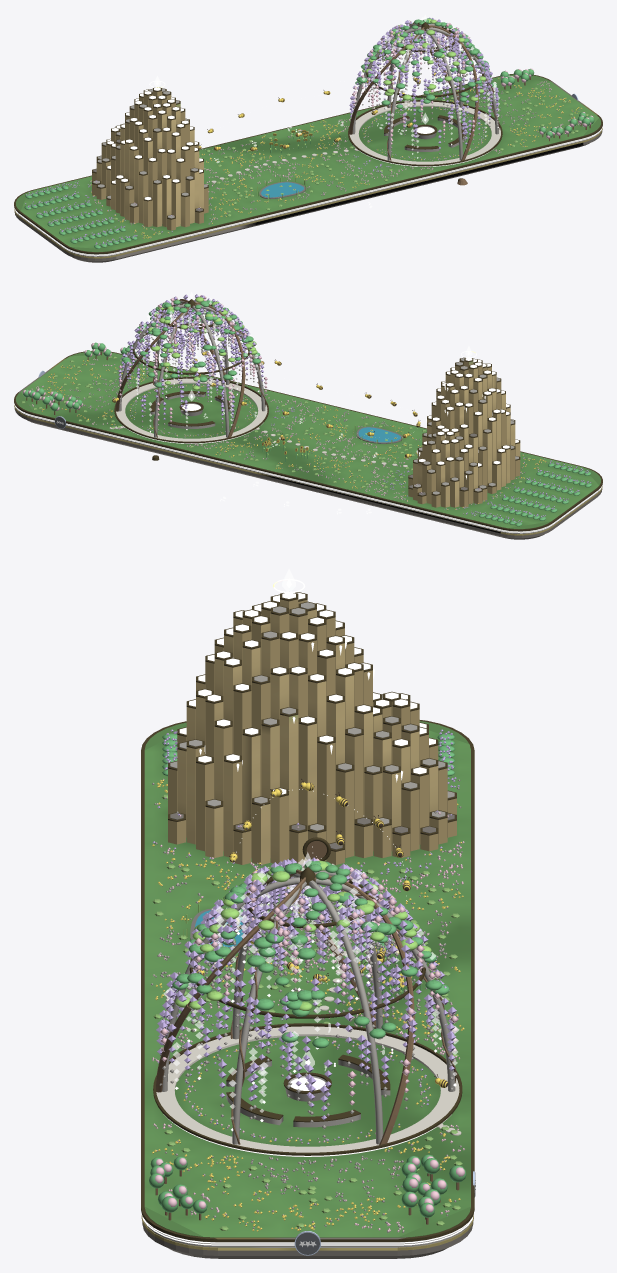
Rendered from SM_Evo_StellarGrid.fbx.
3 views of the same model, one above another, from view 1: azimuth 30°, elevation 25°; view 2: azimuth 150°, elevation 25°; view 3: azimuth 270°, elevation 25° (orthographic). The views are drawn at different scales.
Parts seen in each view (by area): view 1: SMN_Evo_StellarGrid, Emblem_Fx_StellarGrid, BeeSwarm_StellarGrid; view 2: SMN_Evo_StellarGrid, Emblem_Fx_StellarGrid, BeeSwarm_StellarGrid; view 3: SMN_Evo_StellarGrid, Emblem_Fx_StellarGrid, BeeSwarm_StellarGrid.
Part boxes in pixels (x1,y1,x2,y2): SMN_Evo_StellarGrid: [14, 17, 602, 262]; Emblem_Fx_StellarGrid: [14, 15, 602, 256]; BeeSwarm_StellarGrid: [199, 73, 436, 151]; SMN_Evo_StellarGrid: [14, 294, 602, 539]; Emblem_Fx_StellarGrid: [14, 292, 602, 533]; BeeSwarm_StellarGrid: [112, 349, 420, 457]; SMN_Evo_StellarGrid: [141, 592, 475, 1258]; Emblem_Fx_StellarGrid: [141, 569, 475, 1246]; BeeSwarm_StellarGrid: [196, 778, 448, 1087].
Bounding box in the file's own units: 6.86 × 2.46 × 1.86.
